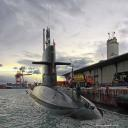submarine: (27, 27, 106, 120)
